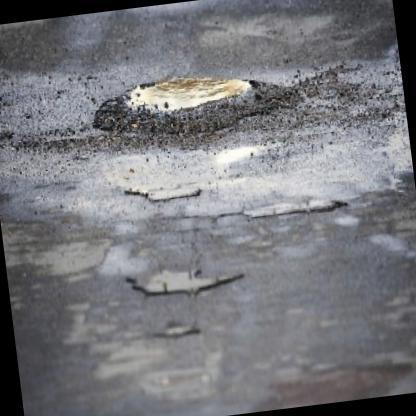pothole: (87, 72, 294, 138), (132, 268, 222, 297), (115, 178, 202, 201)
